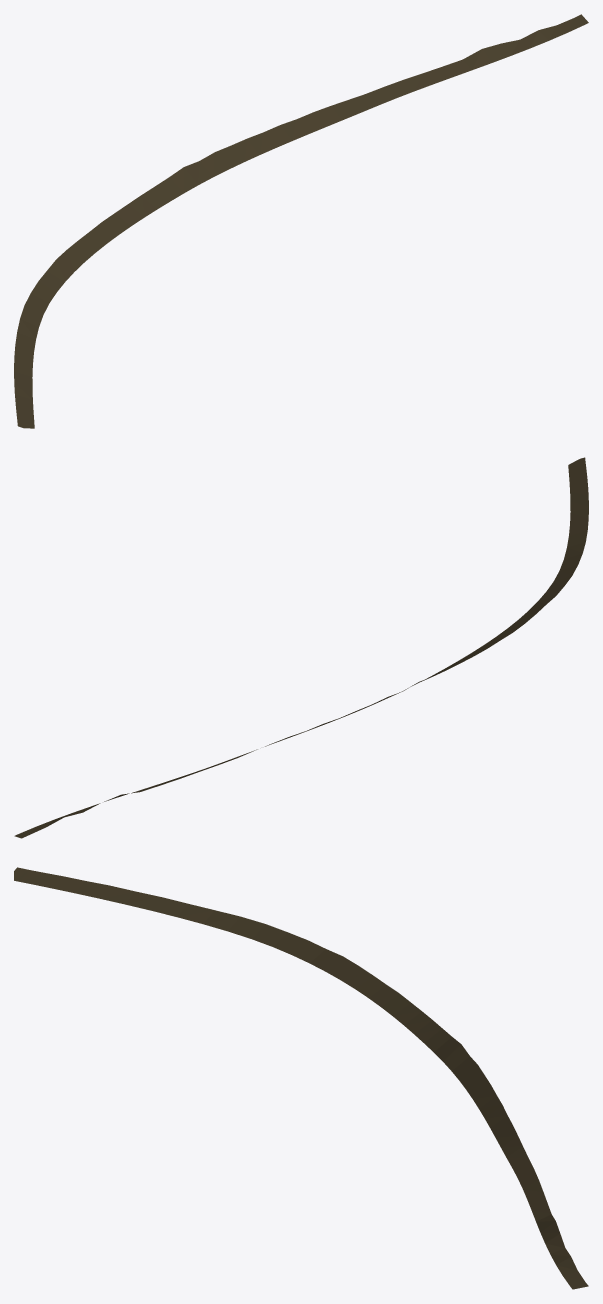
The model's file is 0822_right_gravel_bank.dae.
The picture shows the model from 3 angles, top to bottom: view 1: azimuth 30°, elevation 25°; view 2: azimuth 210°, elevation 25°; view 3: azimuth 270°, elevation 25°; orthographic projection. The views are drawn at different scales.
Parts seen in each view (by area): view 1: Node; view 2: Node; view 3: Node.
Boxes of the visible parts, left/top/right/bottom form: Node: left=14, top=14, right=588, bottom=428; Node: left=14, top=457, right=588, bottom=838; Node: left=14, top=867, right=588, bottom=1289.
Size of the model in its own units: 42.05 by 23.46 by 1.21.
